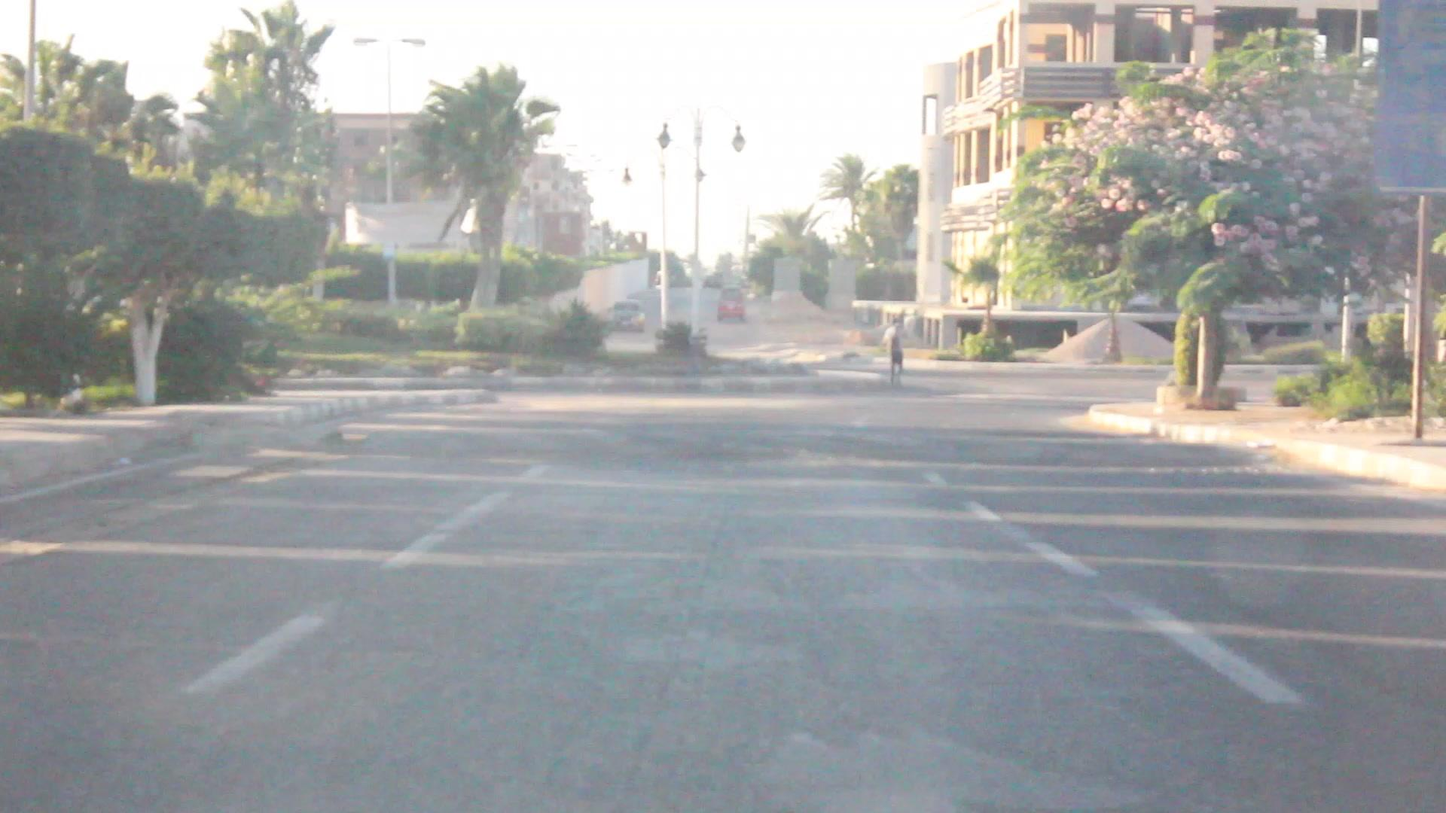Bump: (339, 423, 1267, 470)
